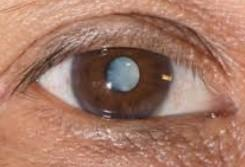eye: (70, 46, 172, 118)
